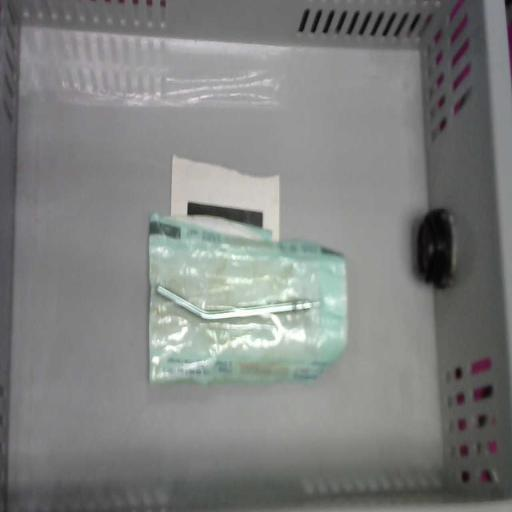triple_syringe: (148, 213, 348, 387)
